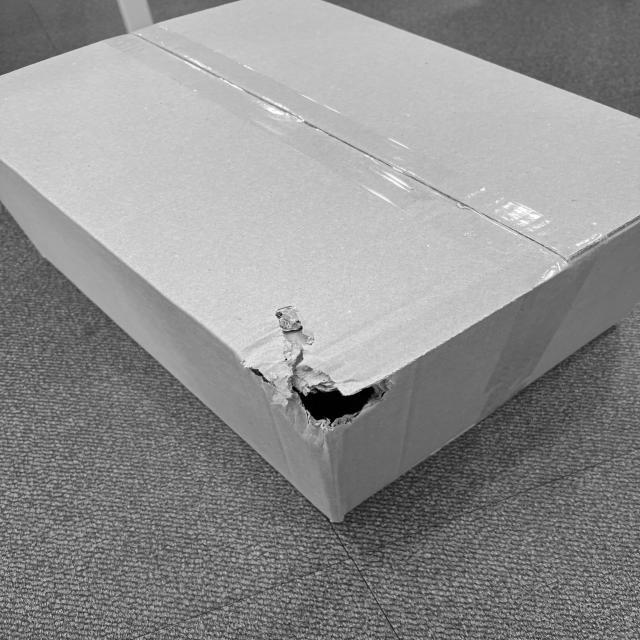hole: (245, 306, 401, 436)
